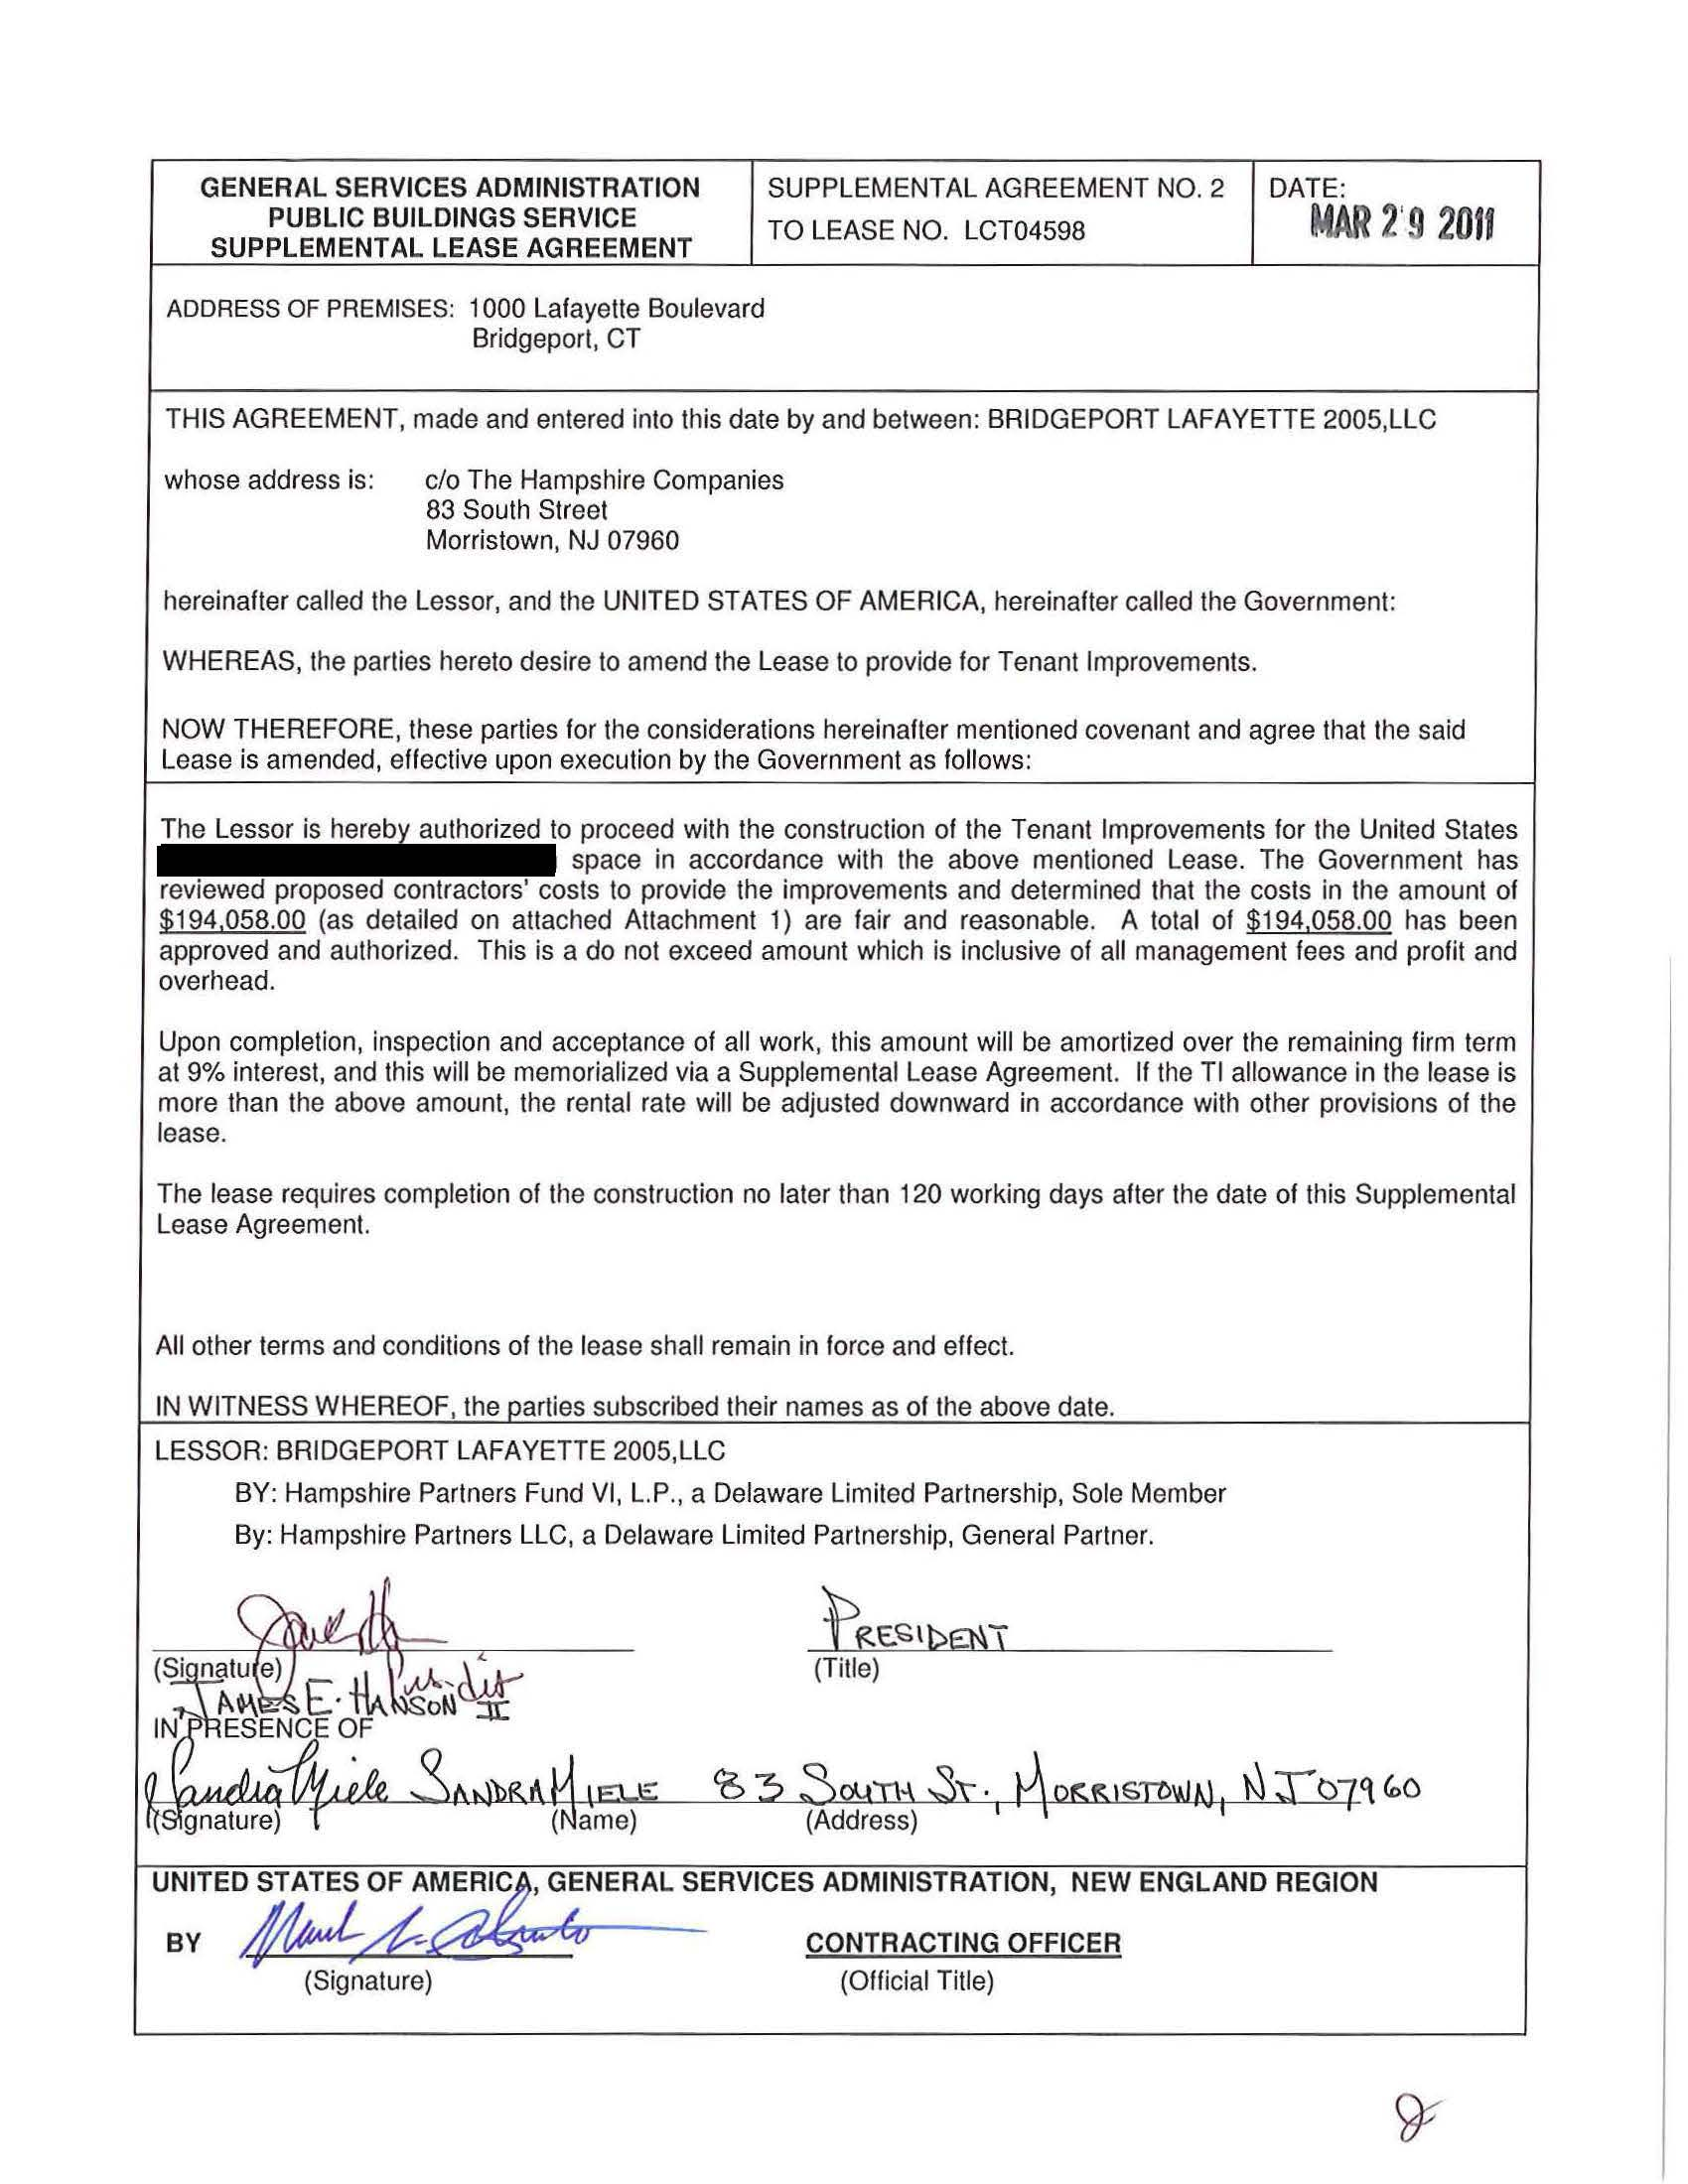handwritten: (135, 1732, 1447, 1808), (231, 1897, 723, 1957), (243, 1578, 456, 1670), (800, 1576, 1021, 1652)
